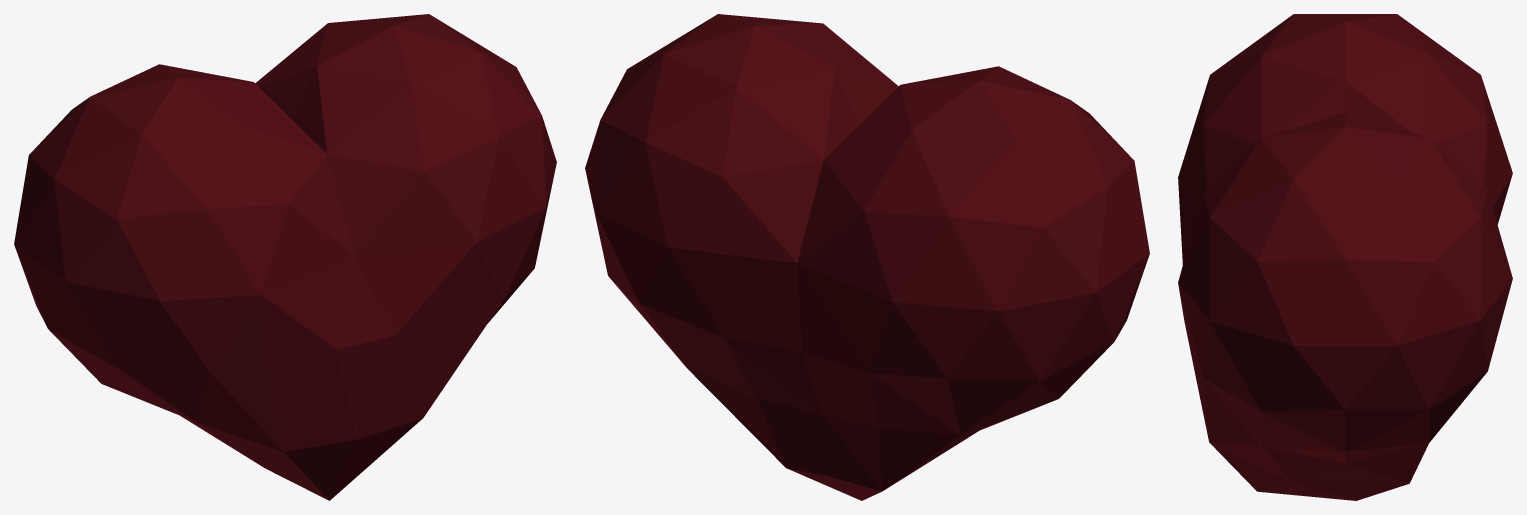
The model's file is HeartPickup.obj.
3 views of the same model, side by side, from view 1: azimuth 30°, elevation 25°; view 2: azimuth 150°, elevation 25°; view 3: azimuth 270°, elevation 25° (orthographic). The views are drawn at different scales.
Visible parts, largest first — view 1: HeartPickup; view 2: HeartPickup; view 3: HeartPickup.
Boxes of the visible parts, left/top/right/bottom form: HeartPickup: left=14, top=14, right=556, bottom=500; HeartPickup: left=585, top=14, right=1149, bottom=500; HeartPickup: left=1178, top=14, right=1512, bottom=500.
Size of the model in its own units: 0.9714 by 0.8057 by 0.5728.
